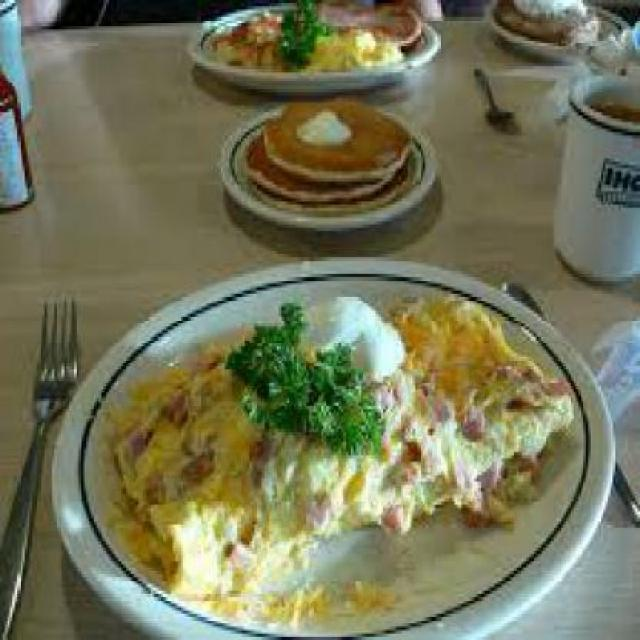omelette: (103, 287, 571, 584), (200, 13, 408, 70)
pancakes: (232, 89, 416, 208)
